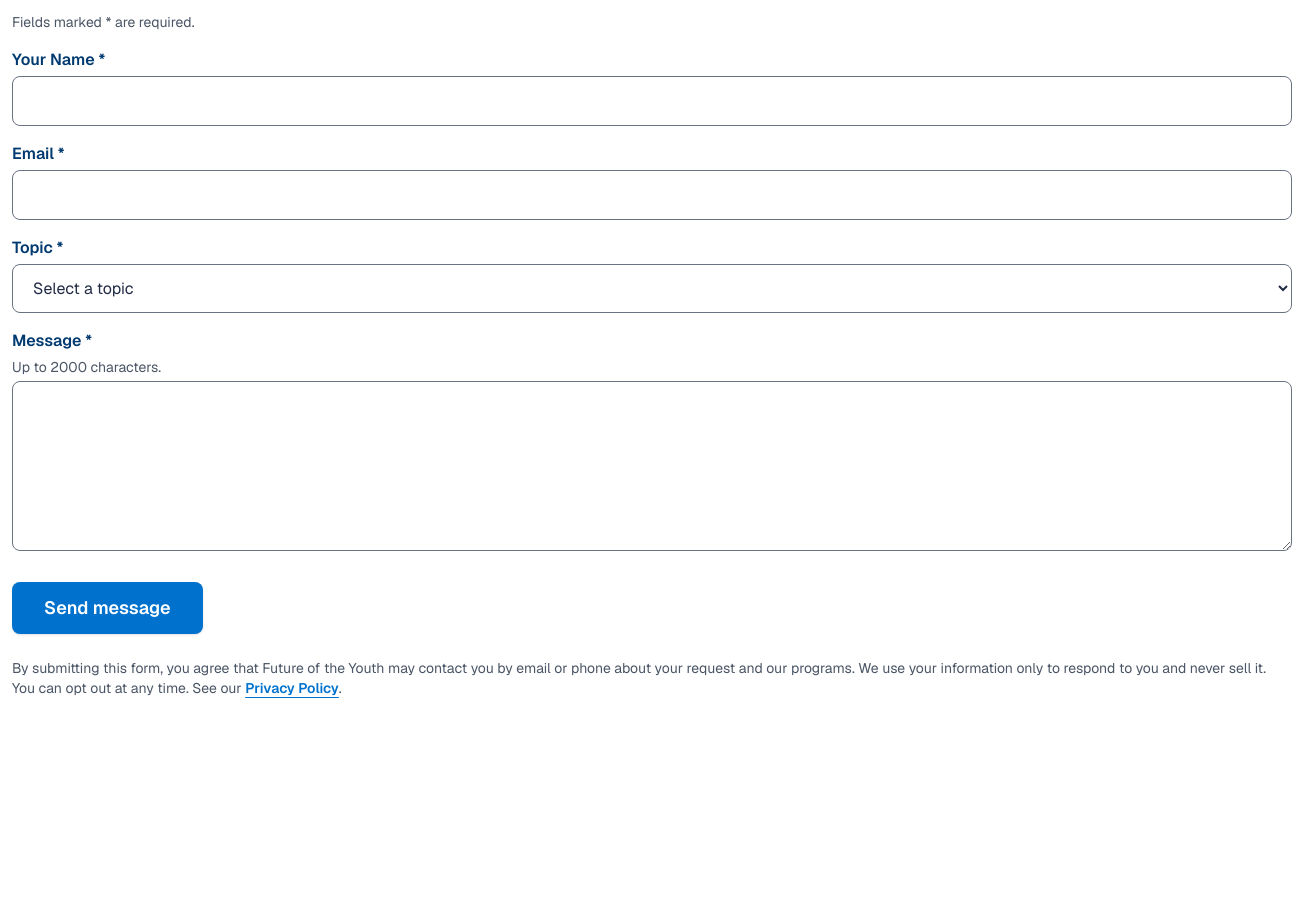
Test: ContactForm › shows the server error and keeps the message
Type "Ada Lovelace" into the field labelled "Your Name *" at (652, 101), box [12, 76, 1292, 126]
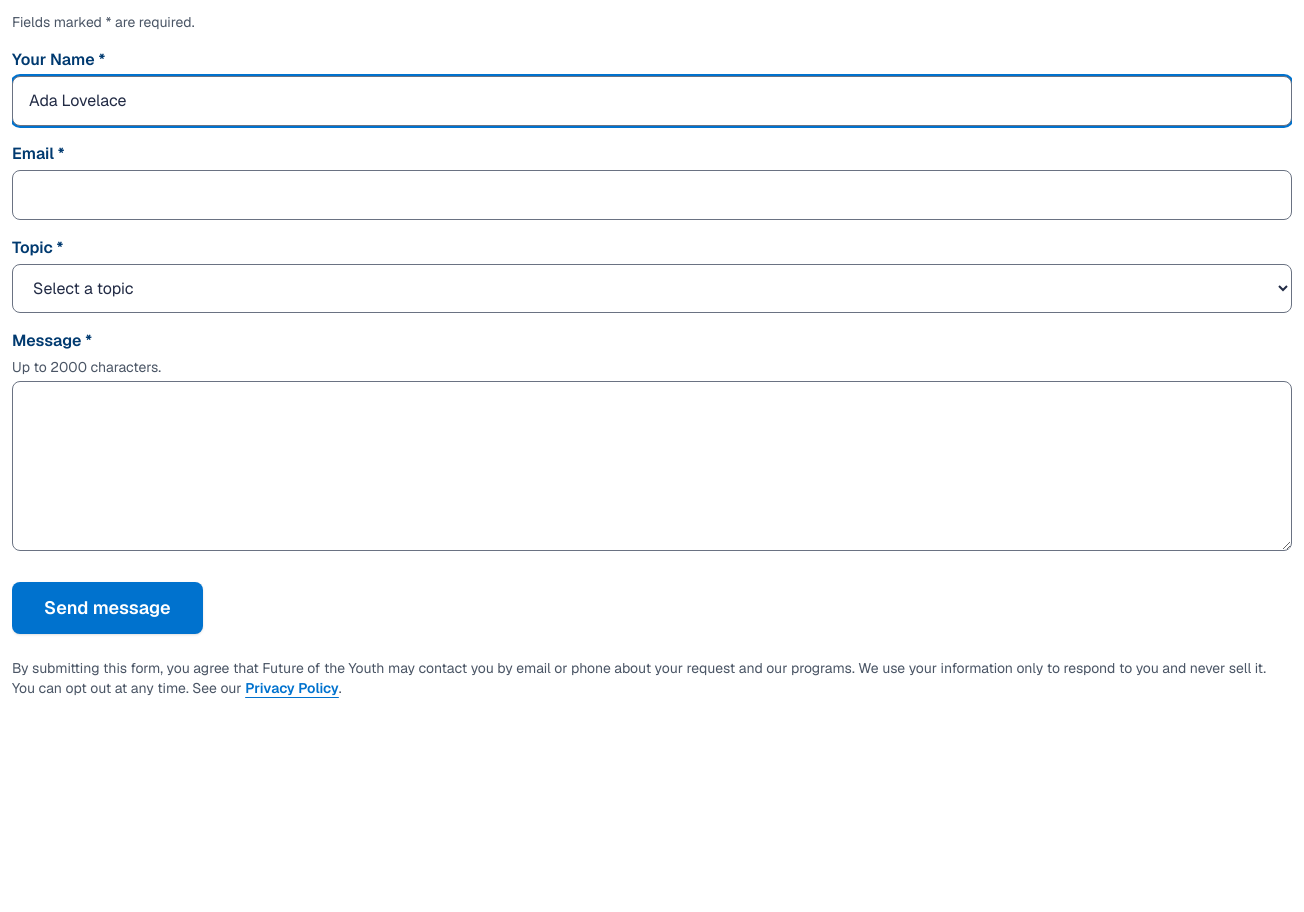
Type "ada@example.com" into the field labelled "Email *" at (652, 195), box [12, 170, 1292, 220]
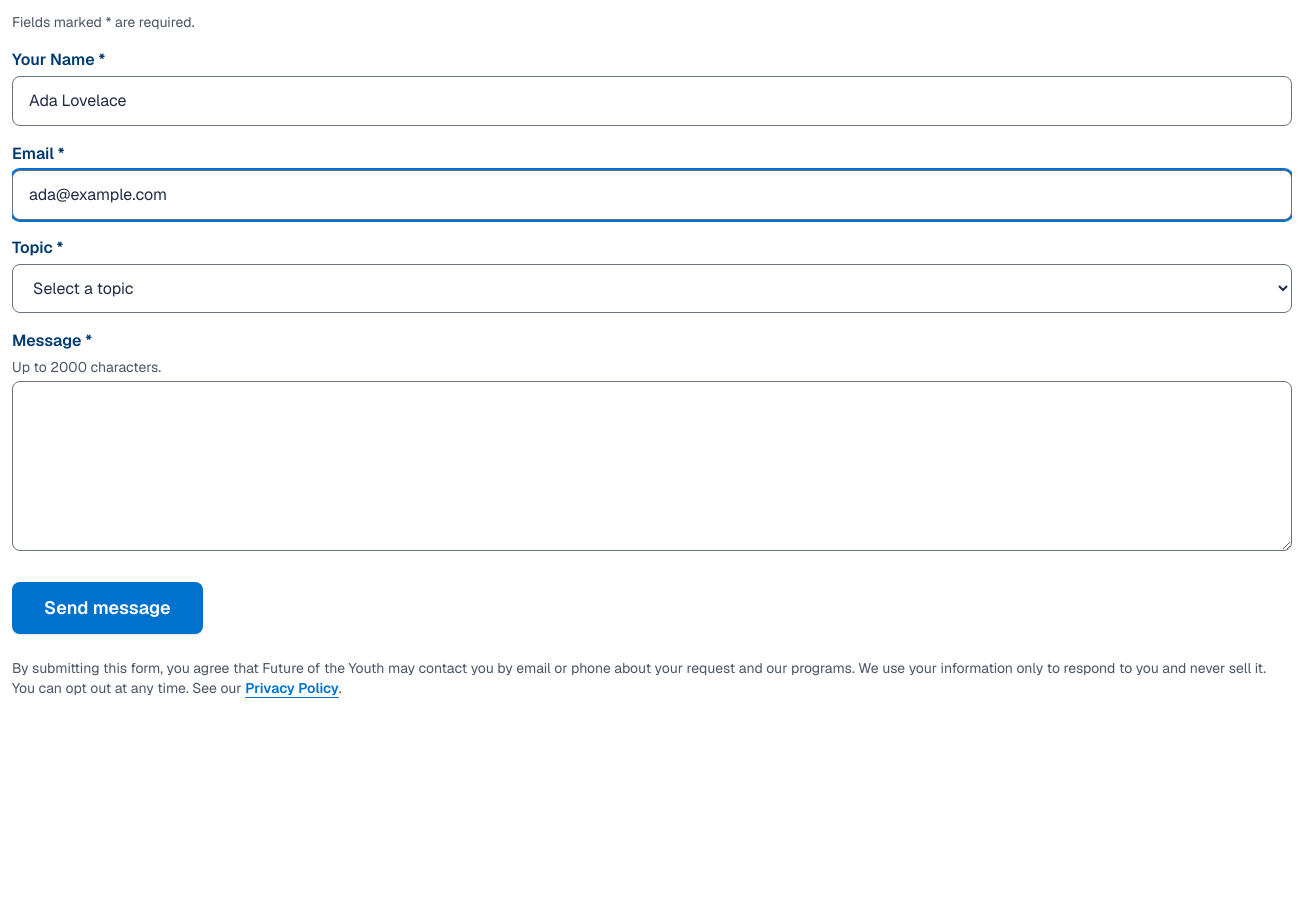
Select "Volunteering" in the dropdown labelled "Topic *" at (652, 288), box [12, 264, 1292, 313]
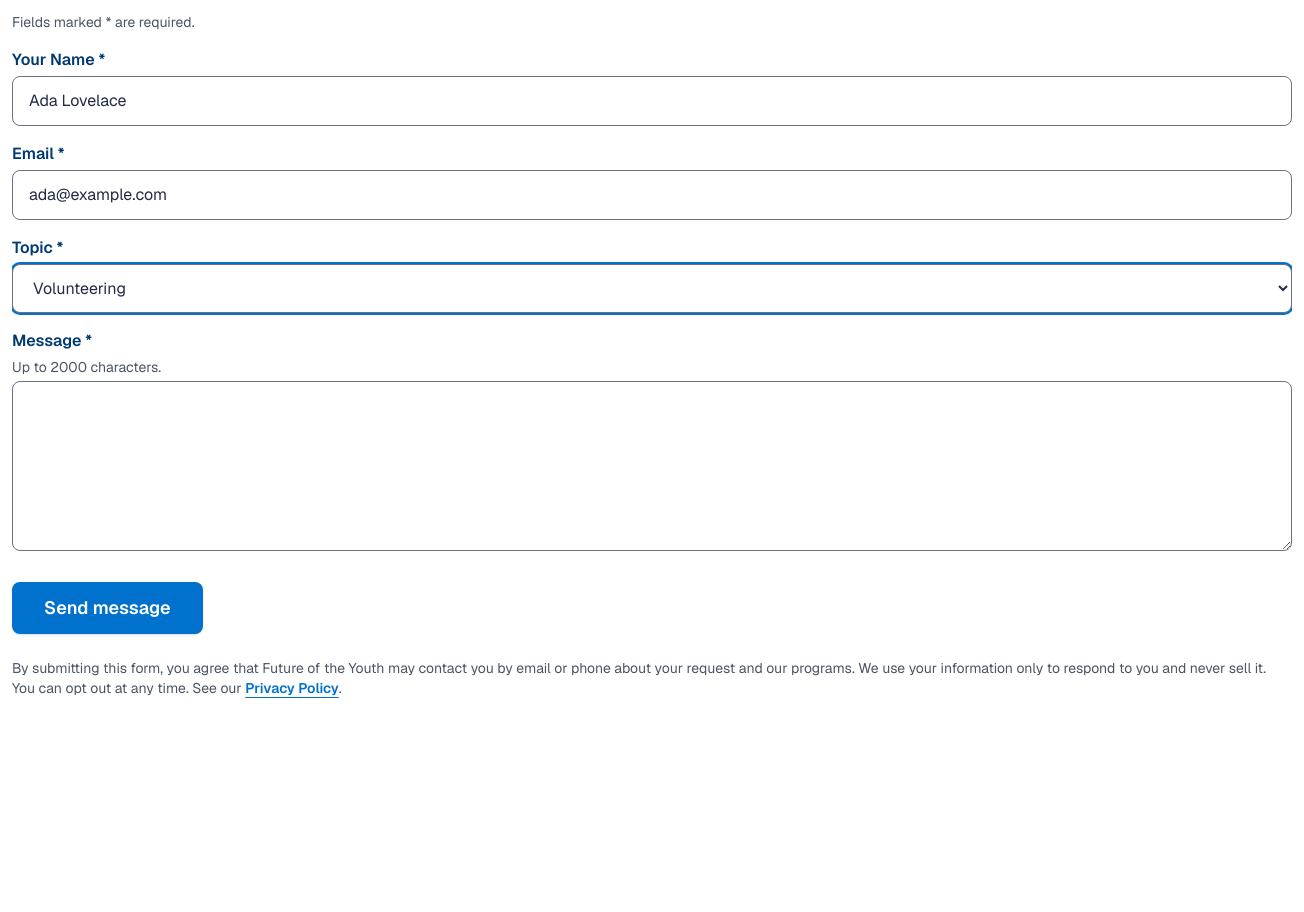
Type "I can help on weekends." into the text box labelled "Message *" at (652, 466), box [12, 381, 1292, 551]
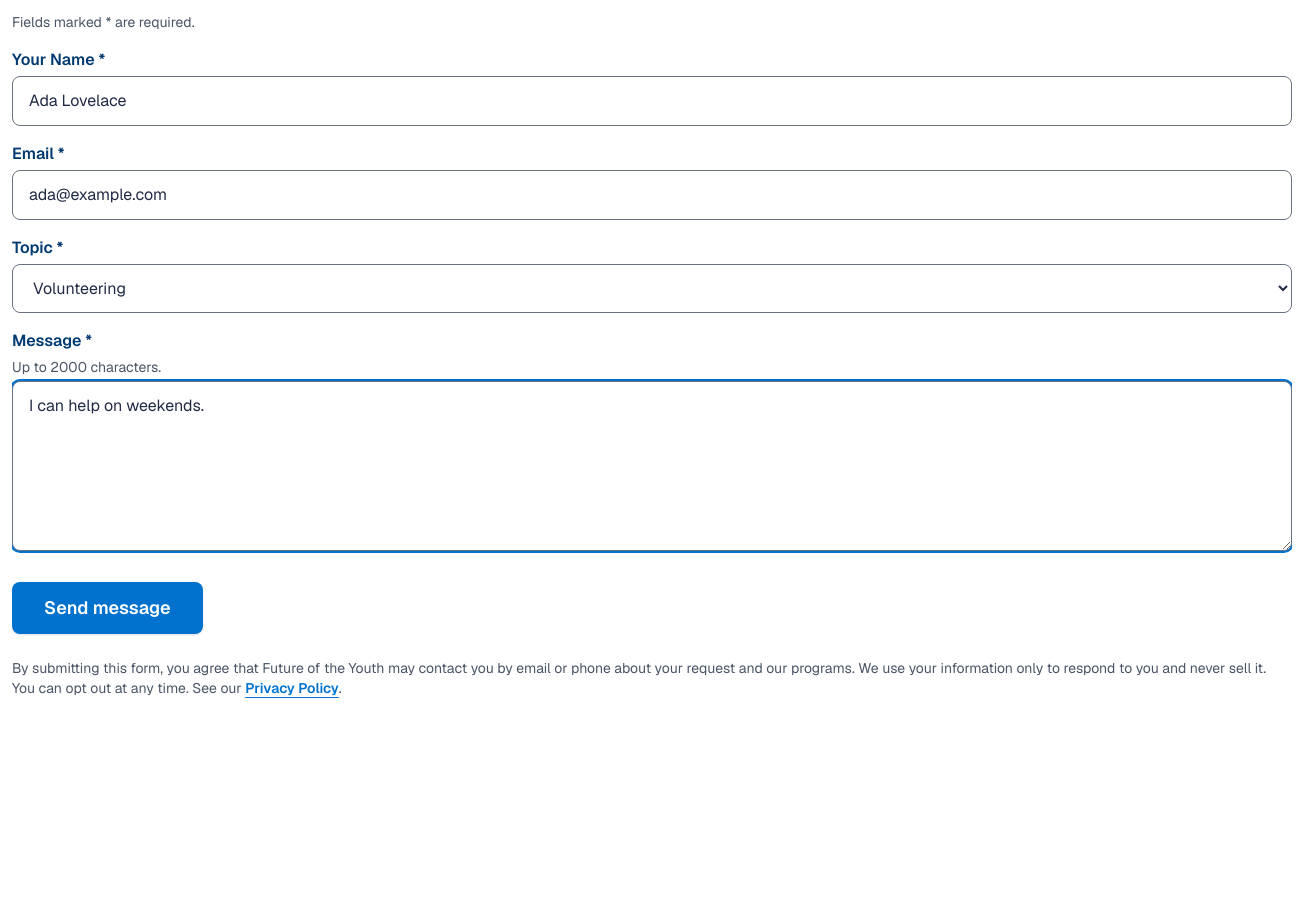
Click the button "Send message" at (107, 608), box [12, 582, 203, 634]
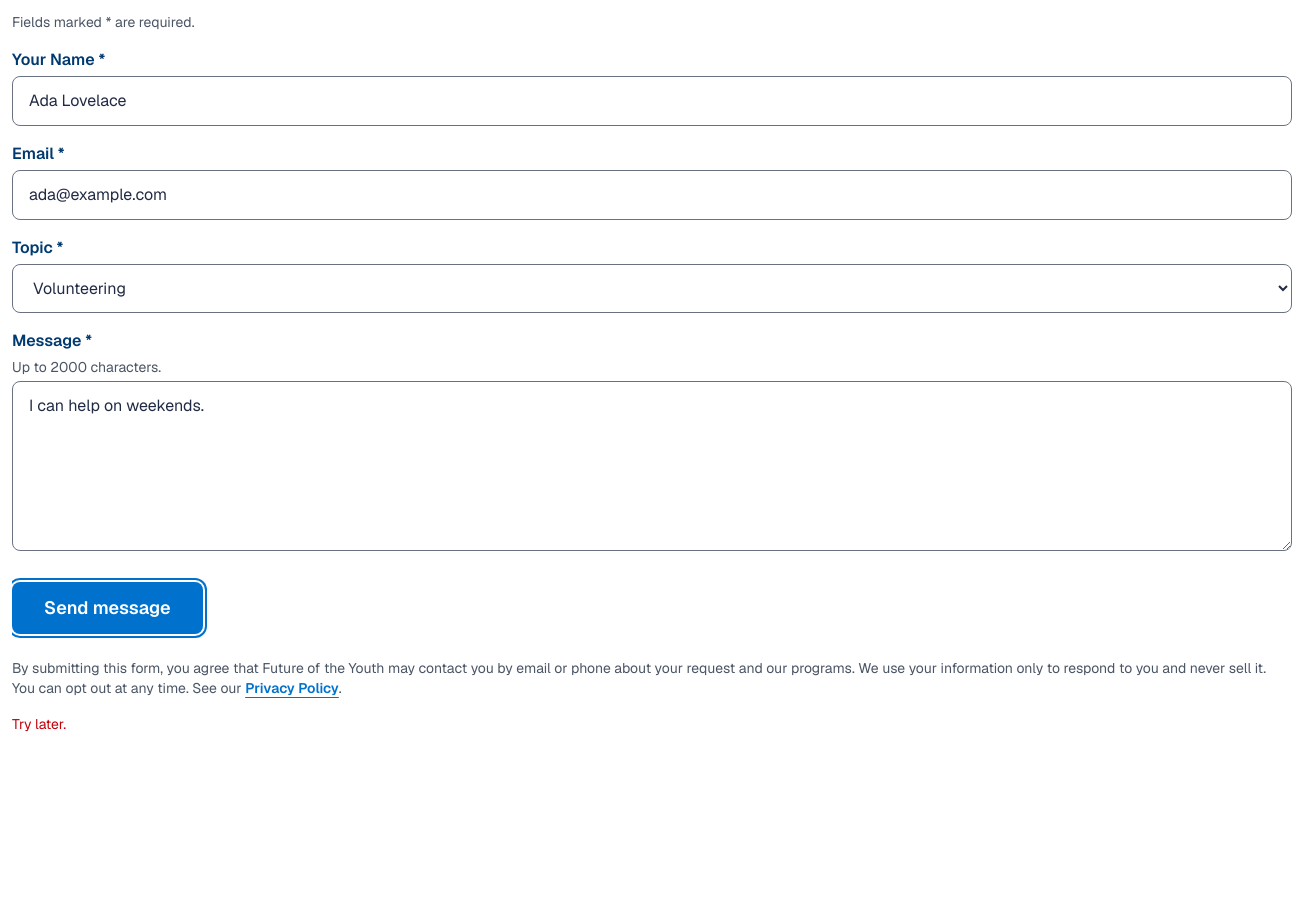
Expected: the message reads "Try later.", [12, 715, 66, 733]
